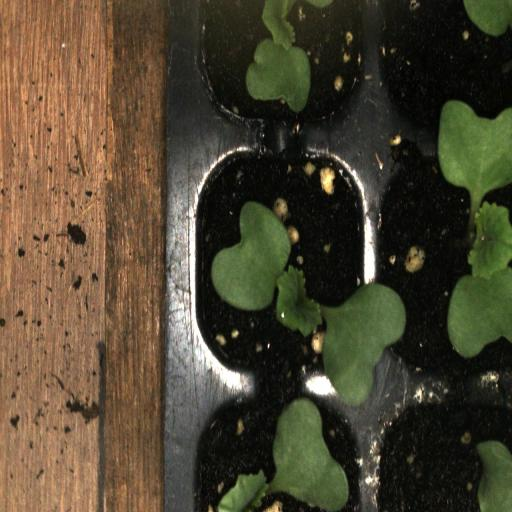seedling: (180, 142, 370, 378), (368, 140, 512, 379)
